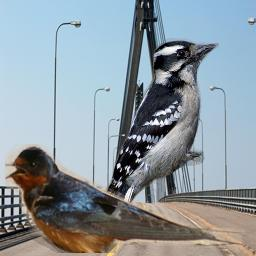Swallow: (5, 144, 245, 253)
Woodpecker: (98, 37, 219, 242)
